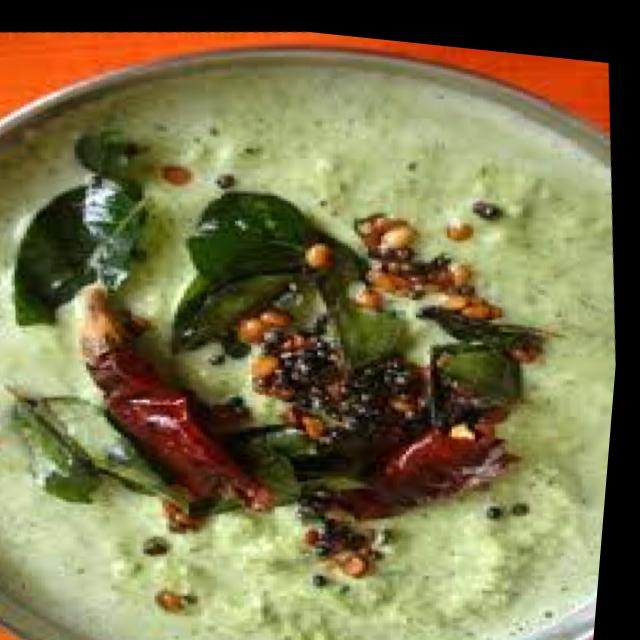WHITE CHUTNEY: (0, 64, 611, 640)
